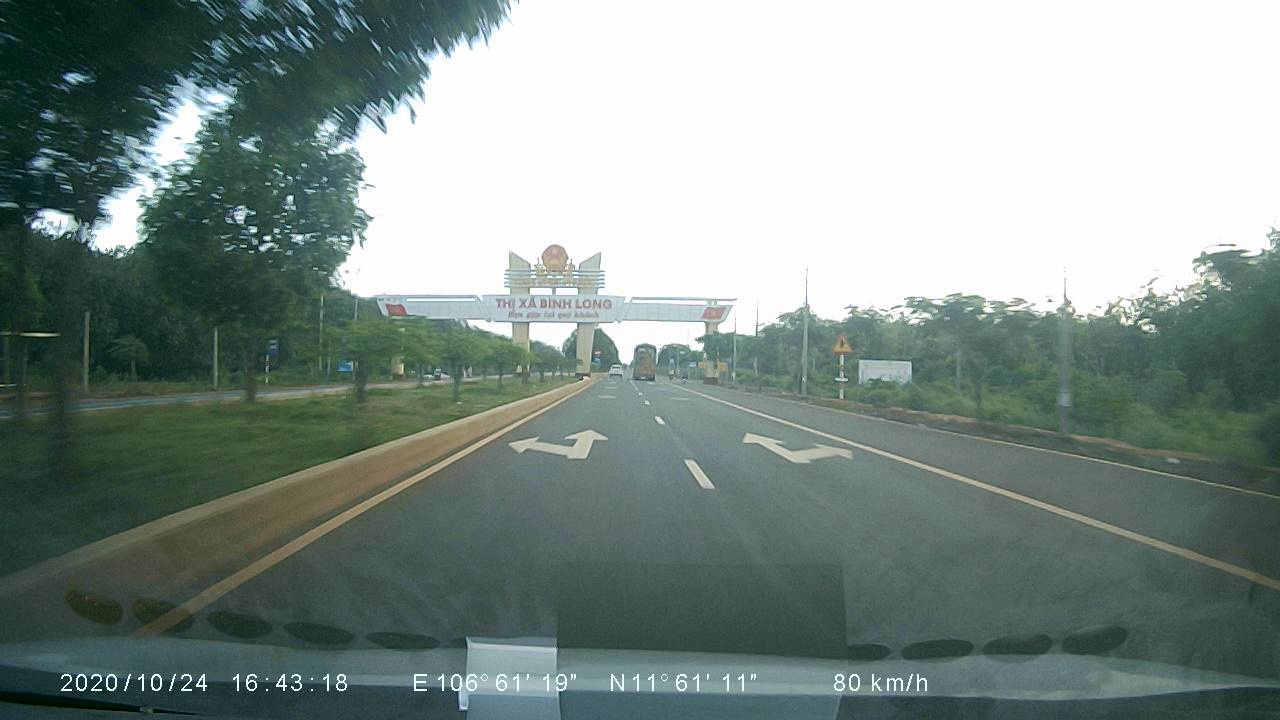Giao nhau voi duong khong uu tien: (829, 330, 856, 353)
